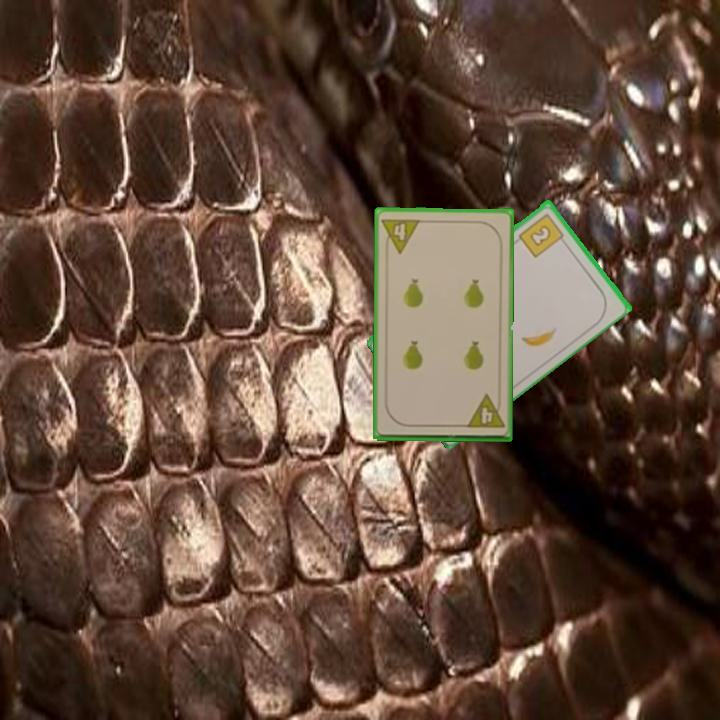2b: (515, 209, 569, 260)
4p: (378, 215, 423, 256), (463, 392, 507, 431)
